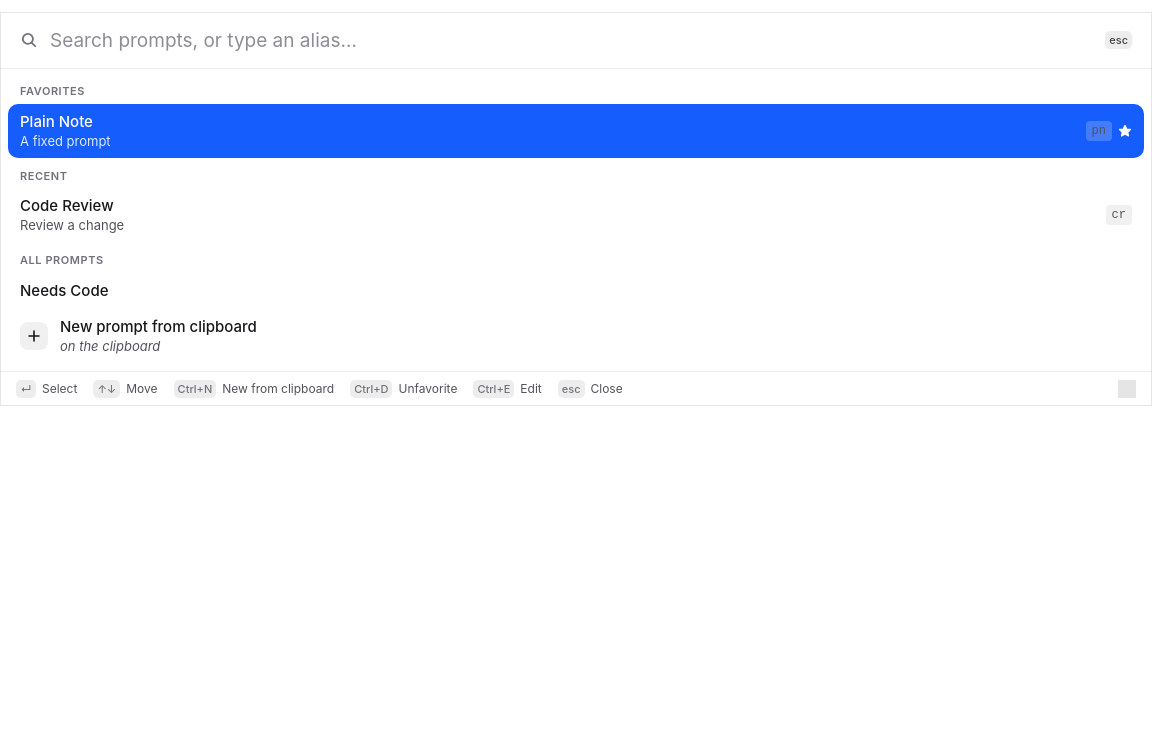
Test case: launcher: finding a prompt › opens a prompt when it is clicked, without taking focus from the search box
Click the option "Code Review Review a change cr".
click(67, 206)  # box [8,188,1144,242]
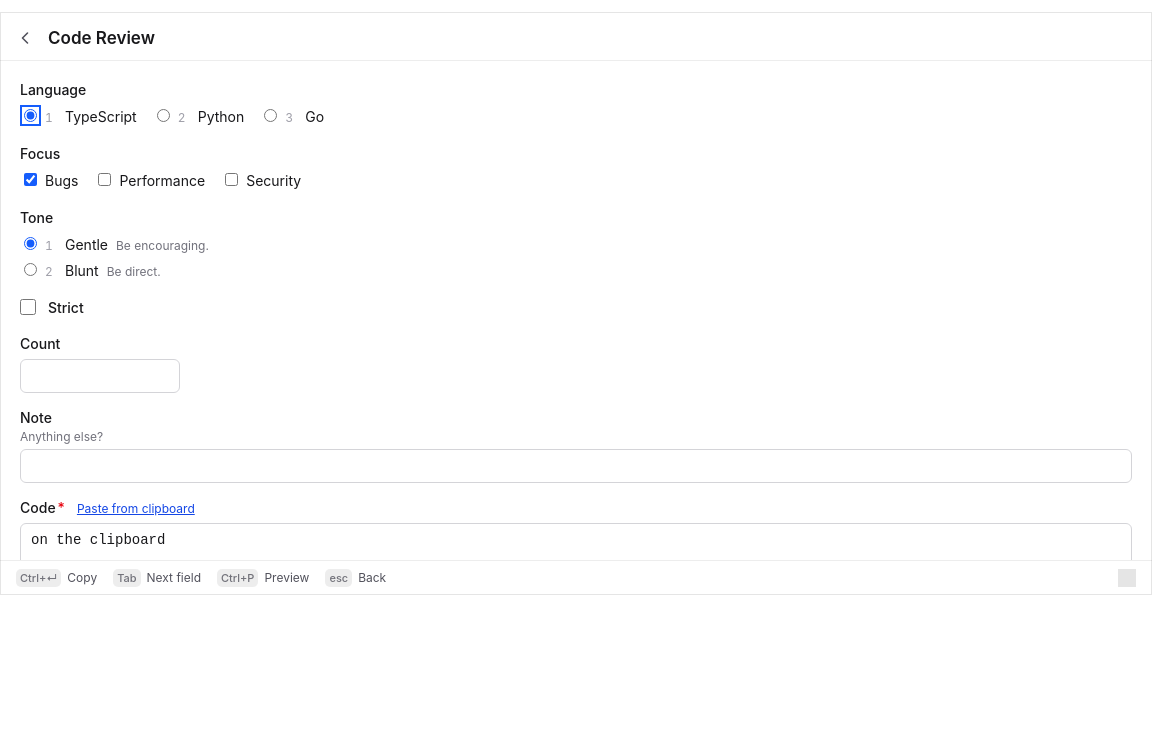
Check: the form named "Fill in the prompt" is shown
